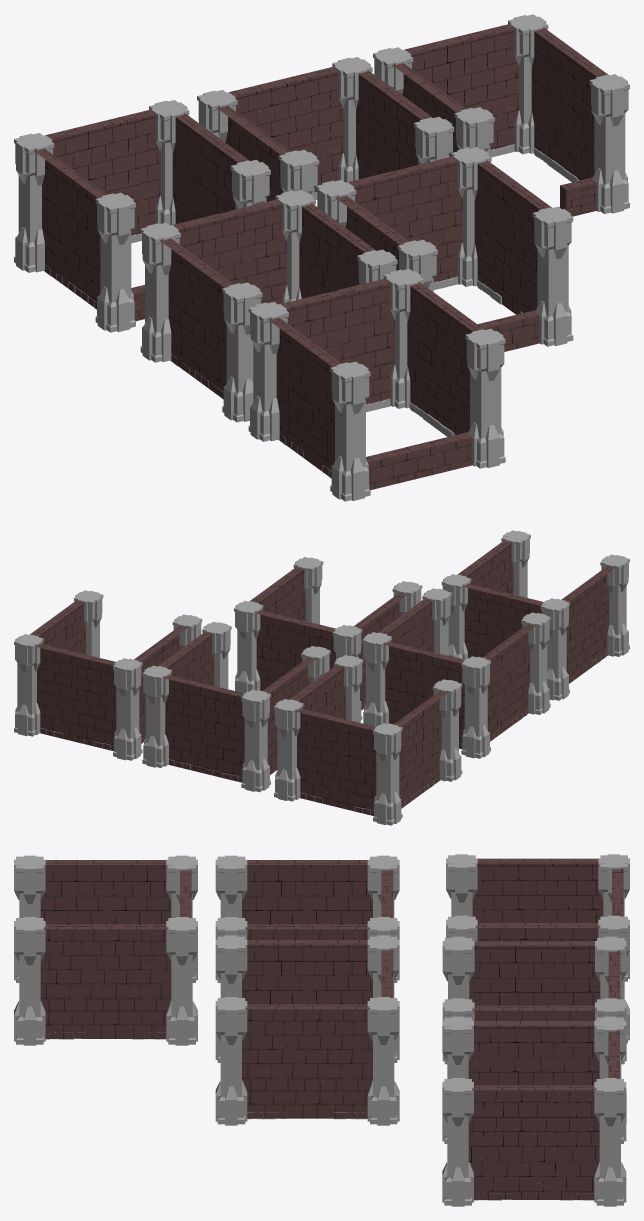
File: MuroTwo_door.fbx
3 renders of one model, top to bottom at view 1: azimuth 30°, elevation 25°; view 2: azimuth 150°, elevation 25°; view 3: azimuth 270°, elevation 25°, orthographic. The views are drawn at different scales.
Visible parts, largest first — view 1: Tw_Door5, Tw_Door, Tw_Door3, Tw_Door4, Tw_Door2, Tw_Door1; view 2: Tw_Door, Tw_Door3, Tw_Door1, Tw_Door2, Tw_Door5, Tw_Door4; view 3: Tw_Door4, Tw_Door2, Tw_Door5, Tw_Door, Tw_Door1, Tw_Door3.
Boxes of the visible parts, x1,y1,x2,y2 form: Tw_Door5: (248,269,505,501); Tw_Door: (14,100,270,332); Tw_Door3: (140,189,397,422); Tw_Door4: (316,147,573,351); Tw_Door2: (373,14,629,216); Tw_Door1: (197,57,454,201); Tw_Door: (274,655,462,825); Tw_Door3: (362,588,550,758); Tw_Door1: (142,621,330,792); Tw_Door2: (14,590,202,760); Tw_Door5: (441,530,629,700); Tw_Door4: (234,557,422,722); Tw_Door4: (215,935,399,1125); Tw_Door2: (442,1016,626,1206); Tw_Door5: (14,855,197,1045); Tw_Door: (446,854,629,1043); Tw_Door1: (442,936,626,1122); Tw_Door3: (215,855,399,982).
Size of the model in its own units: 4798 by 1100 by 5266.
Materials: 2 (1 with a texture image).
